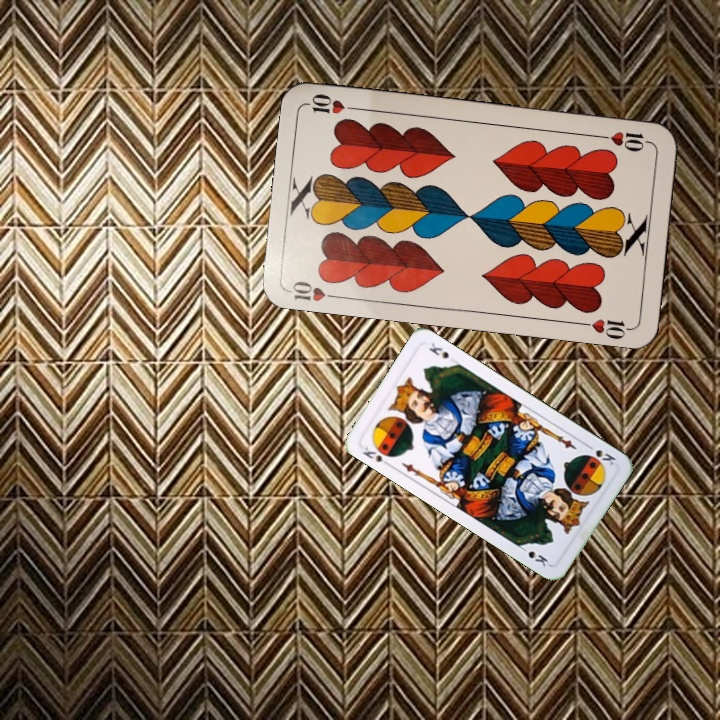H10: (284, 277, 344, 304), (594, 127, 653, 154)
SK: (582, 440, 618, 468), (358, 443, 394, 469)
